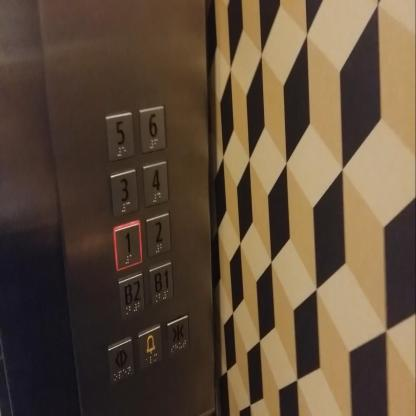1: (113, 221, 142, 271)
2: (143, 213, 170, 258)
3: (109, 170, 139, 217)
4: (141, 161, 168, 205)
5: (105, 112, 135, 162)
6: (138, 105, 166, 153)
B1: (149, 262, 173, 306)
B2: (117, 272, 145, 322)
alarm: (138, 322, 162, 373)
close: (166, 313, 188, 362)
open: (108, 336, 134, 390)
